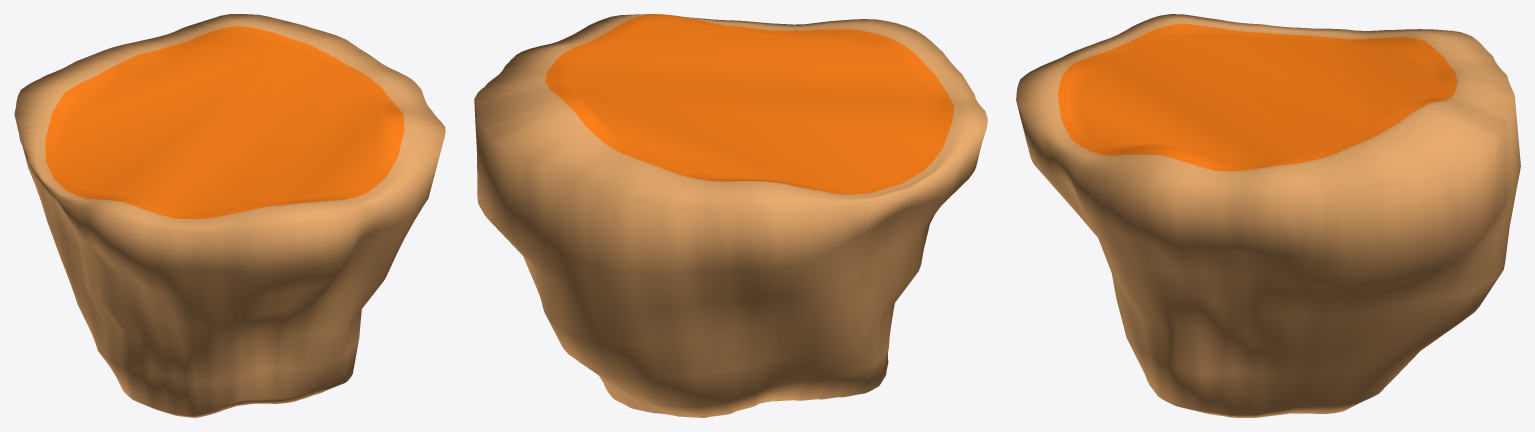
Rendered from roadmap_island.glb.
3 views of the same model, side by side, from view 1: azimuth 30°, elevation 25°; view 2: azimuth 150°, elevation 25°; view 3: azimuth 270°, elevation 25° (orthographic). The views are drawn at different scales.
Parts seen in each view (by area): view 1: Cylinder.004; view 2: Cylinder.004; view 3: Cylinder.004.
Boxes of the visible parts, x1,y1,x2,y2 form: Cylinder.004: [14, 14, 445, 417]; Cylinder.004: [474, 14, 987, 417]; Cylinder.004: [1016, 14, 1520, 417].
Size of the model in its own units: 2.31 by 1.71 by 2.47.
